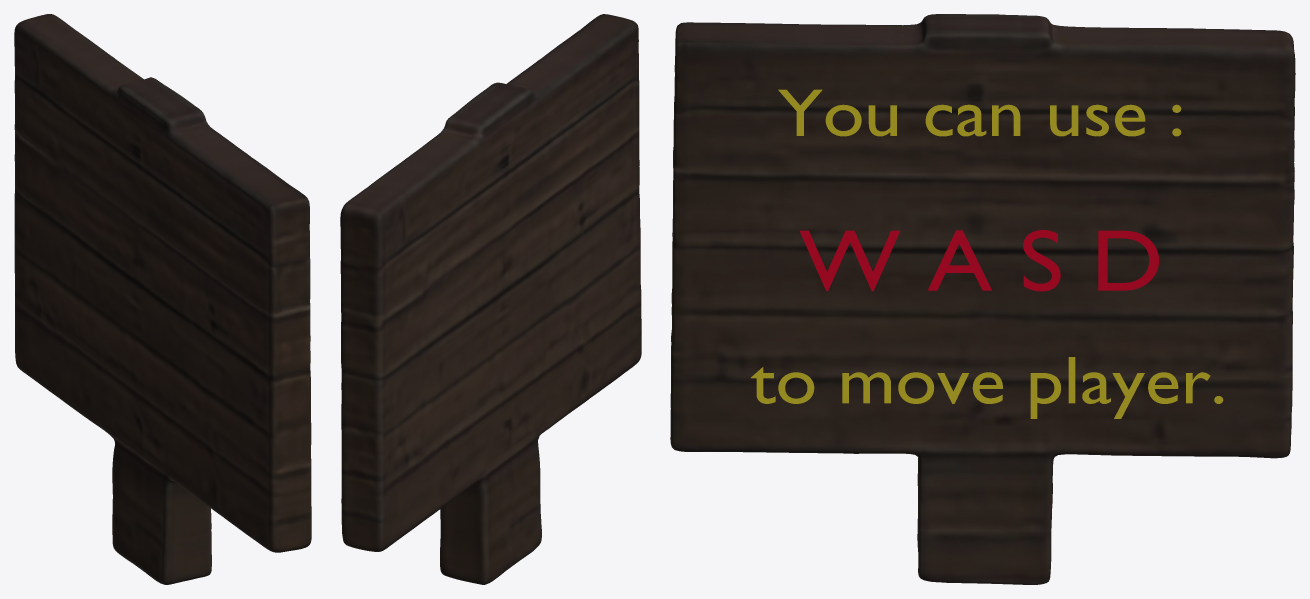
The model's file is MovePanel.glb.
3 views of the same model, side by side, from view 1: azimuth 30°, elevation 25°; view 2: azimuth 150°, elevation 25°; view 3: azimuth 270°, elevation 25° (orthographic). The views are drawn at different scales.
Visible parts, largest first — view 1: world; view 2: world; view 3: world, Text.001, Text.002, Text.
Boxes of the visible parts, left/top/right/bottom form: world: left=14, top=14, right=311, bottom=584; world: left=340, top=14, right=641, bottom=584; world: left=670, top=14, right=1295, bottom=584; Text.001: left=751, top=357, right=1223, bottom=418; Text.002: left=799, top=230, right=1158, bottom=291; Text: left=778, top=89, right=1181, bottom=136.
Size of the model in its own units: 0.1579 by 1.39 by 1.44.
3 materials, 1 textured.
